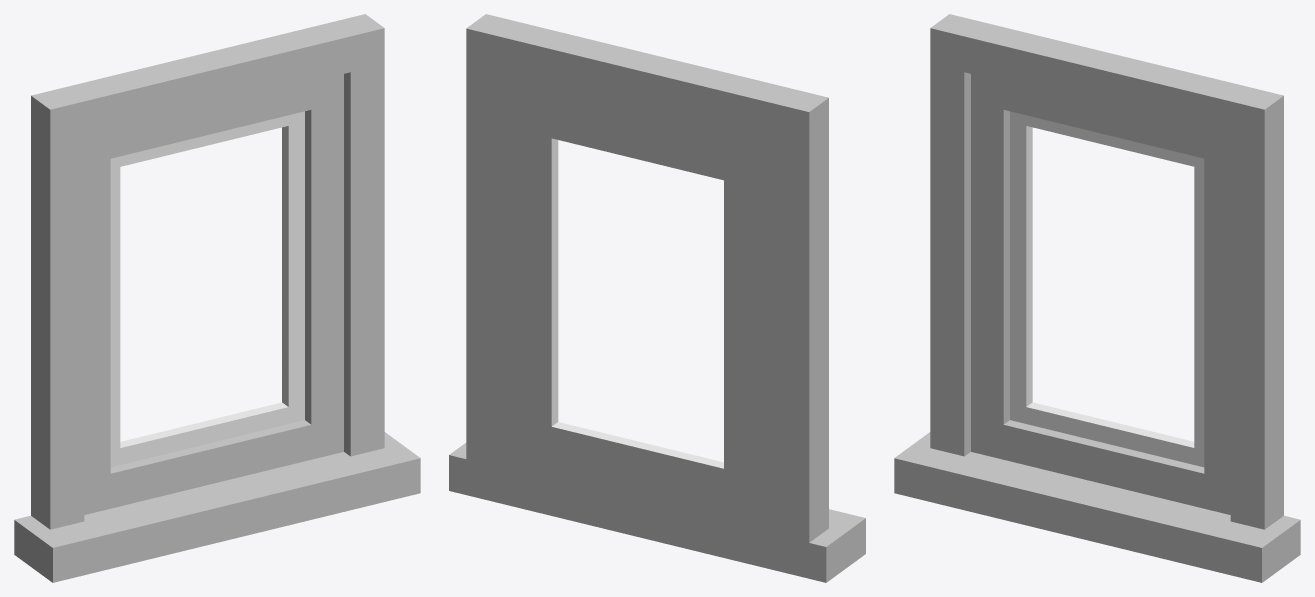
Rendered from s_window.fbx.
The picture shows the model from 3 angles, left to right: view 1: azimuth 30°, elevation 25°; view 2: azimuth 150°, elevation 25°; view 3: azimuth 330°, elevation 25°; orthographic projection. The views are drawn at different scales.
Parts seen in each view (by area): view 1: S Window; view 2: S Window; view 3: S Window.
Boxes of the visible parts, <box> form: S Window: <box>14,14,420,582</box>; S Window: <box>449,14,865,582</box>; S Window: <box>894,14,1300,582</box>.
Size of the model in its own units: 110 by 130 by 20.
